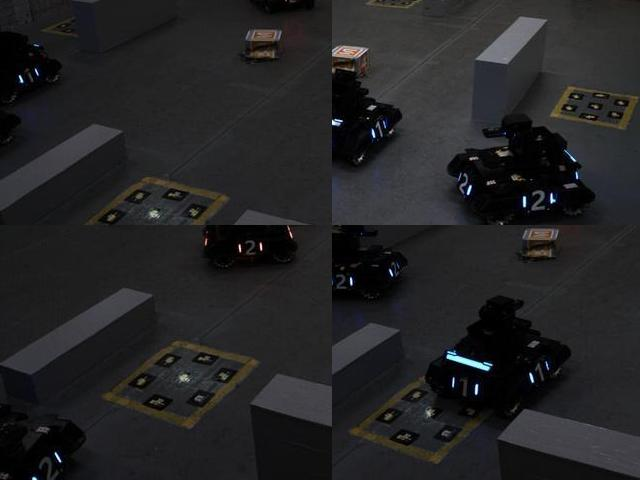armor: (25, 447, 71, 479), (518, 186, 561, 218), (444, 370, 483, 402), (522, 358, 554, 387), (232, 236, 269, 259), (366, 114, 392, 145), (12, 62, 45, 85), (455, 165, 474, 202), (332, 269, 357, 295), (381, 256, 403, 283), (282, 0, 304, 8), (250, 0, 266, 4)
